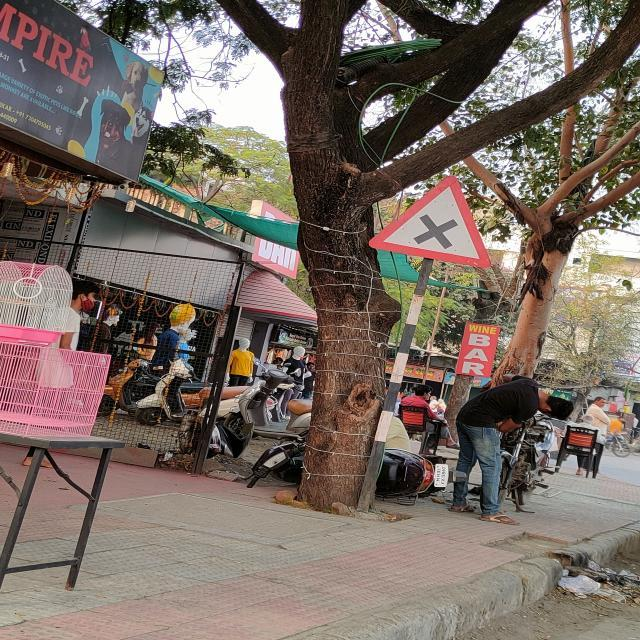cross road: (366, 172, 497, 269)
